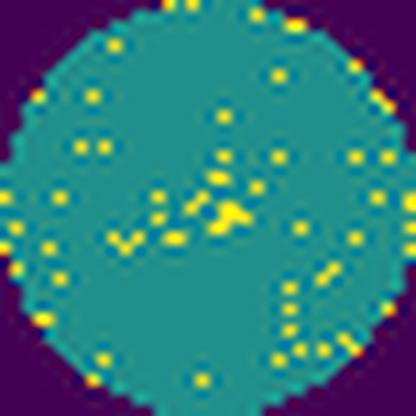Center: (101, 151, 265, 255)
